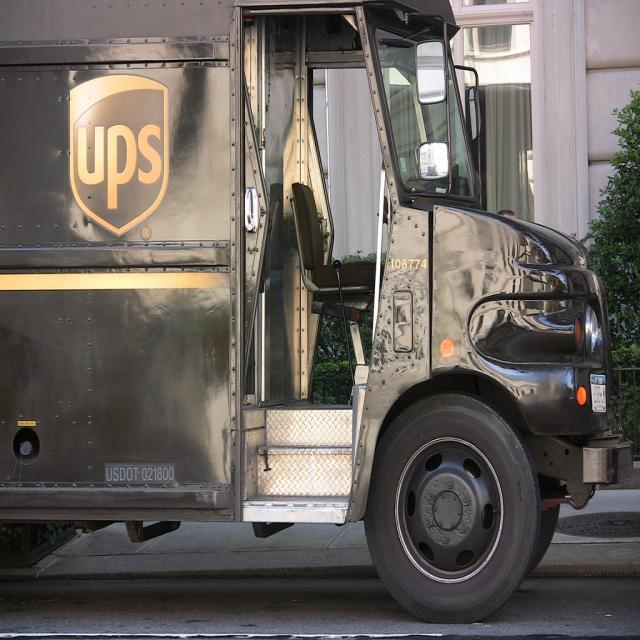ups: (70, 74, 170, 239)
